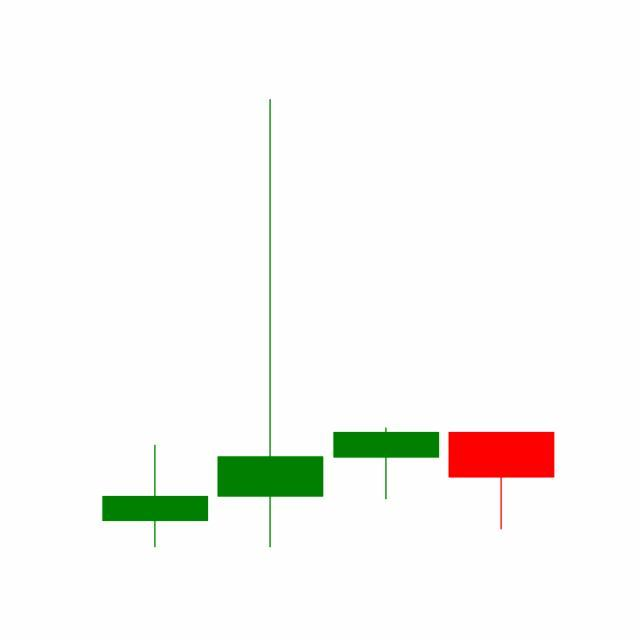Hanging Man: (444, 431, 560, 532)
